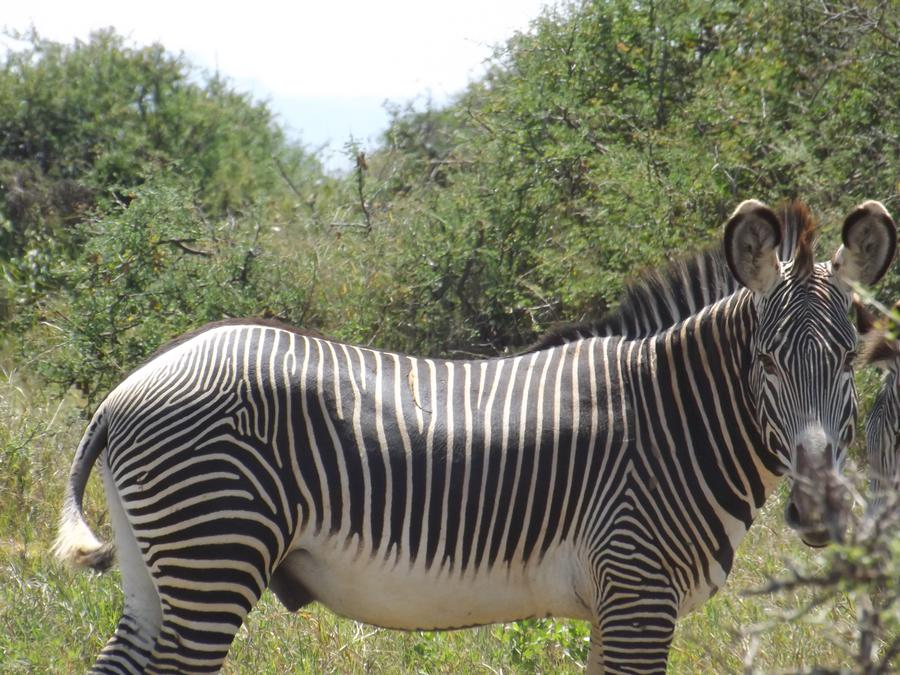zebra_grevys: (99, 299, 713, 606)
